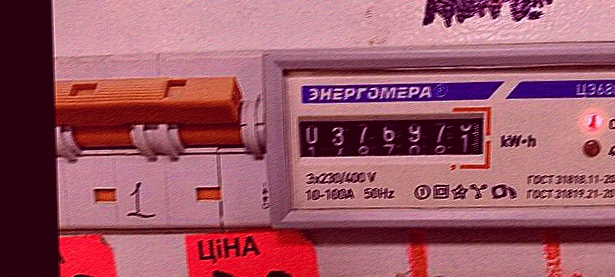0: (303, 122, 320, 144)
1: (459, 132, 471, 153)
3: (330, 123, 345, 147)
6: (382, 120, 396, 141)
7: (356, 120, 370, 144), (433, 119, 447, 143)
9: (407, 120, 421, 142)
screen: (291, 103, 496, 177)
